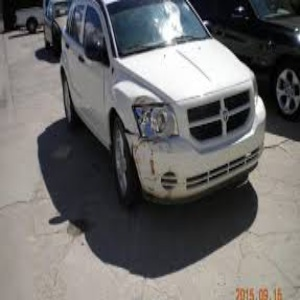bumper_scratch: (128, 136, 177, 201)
